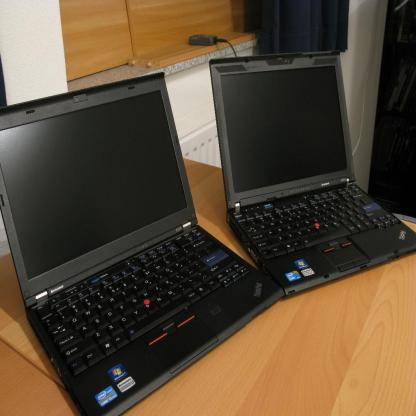board: (0, 72, 283, 416), (207, 50, 416, 298)
